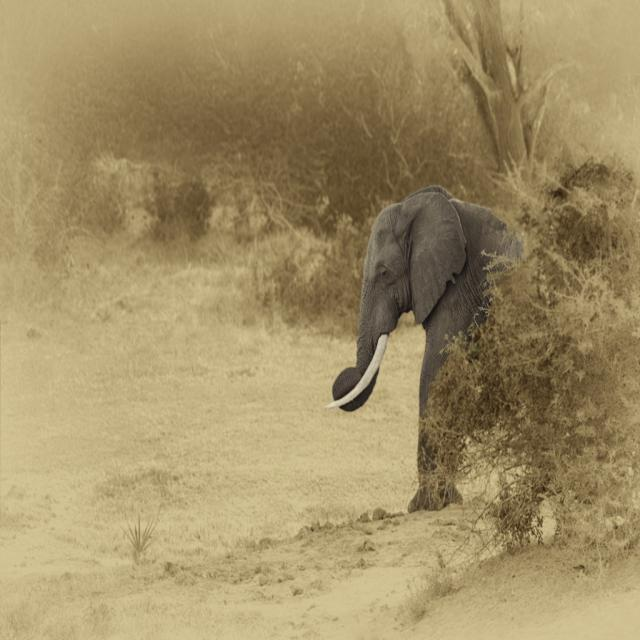elephant: (331, 187, 520, 503)
